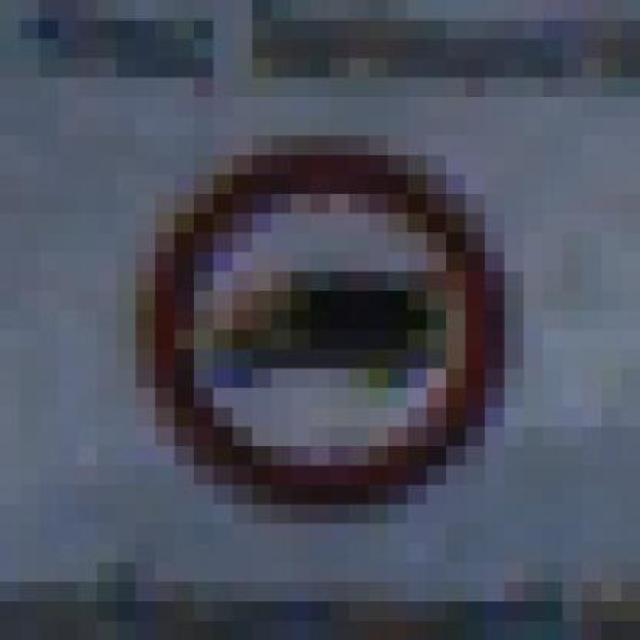Truck traffic is prohibited: (75, 123, 559, 551)
